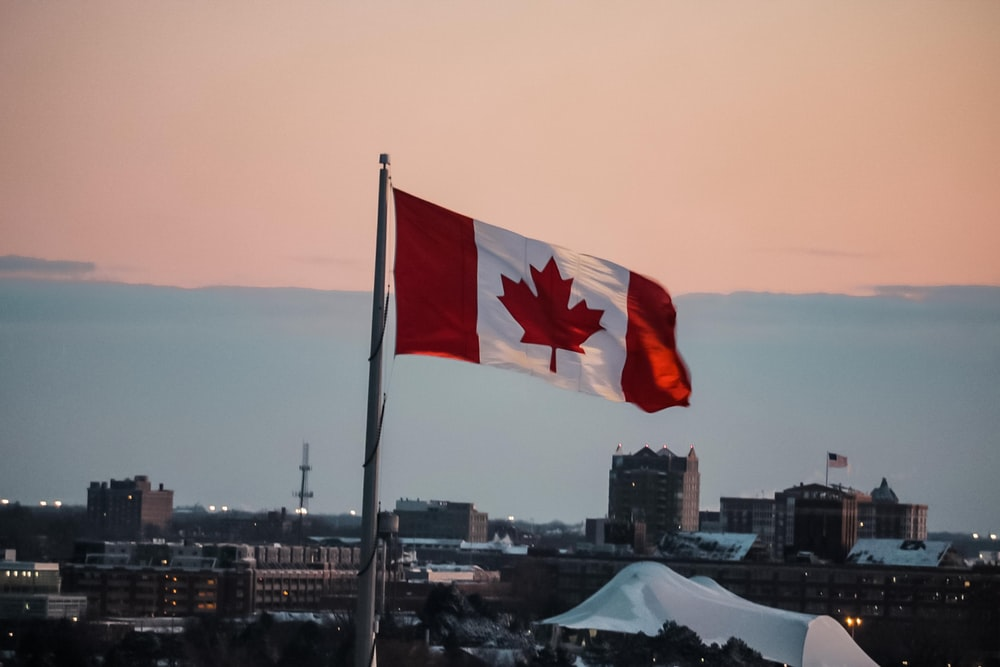Canada flag: (387, 185, 696, 414)
